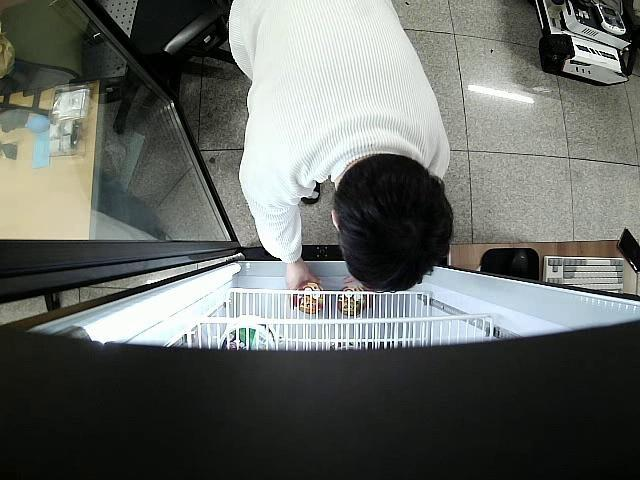06_nuguri_S: (294, 282, 328, 314)
